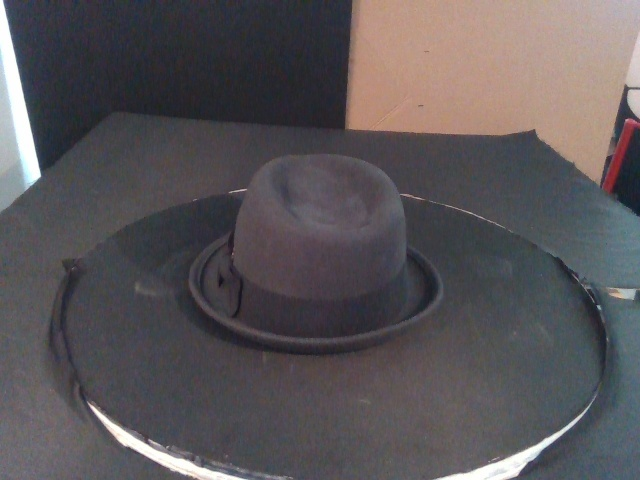hat: (188, 154, 445, 352)
